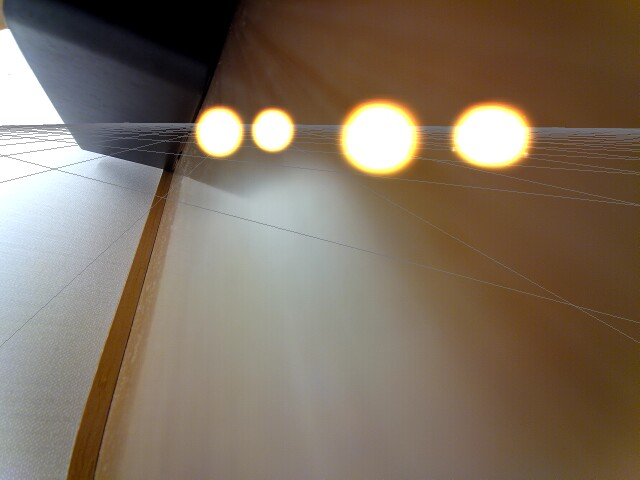firebig: (328, 92, 423, 179)
